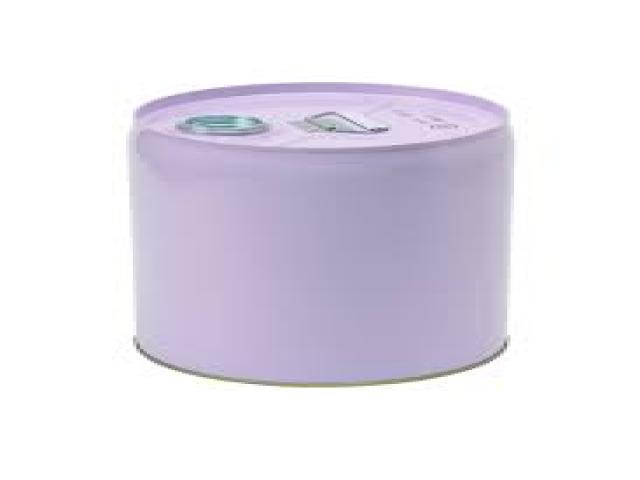Canned_drinks: (133, 84, 511, 384)
